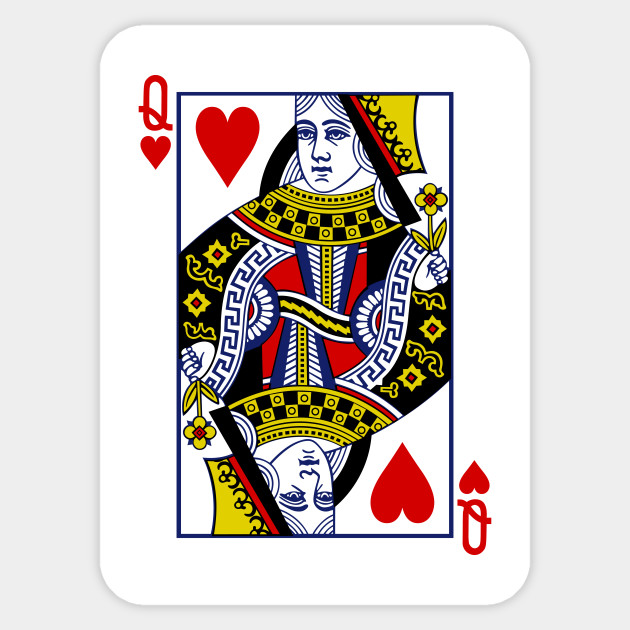queen of hearts: (117, 45, 512, 570)
